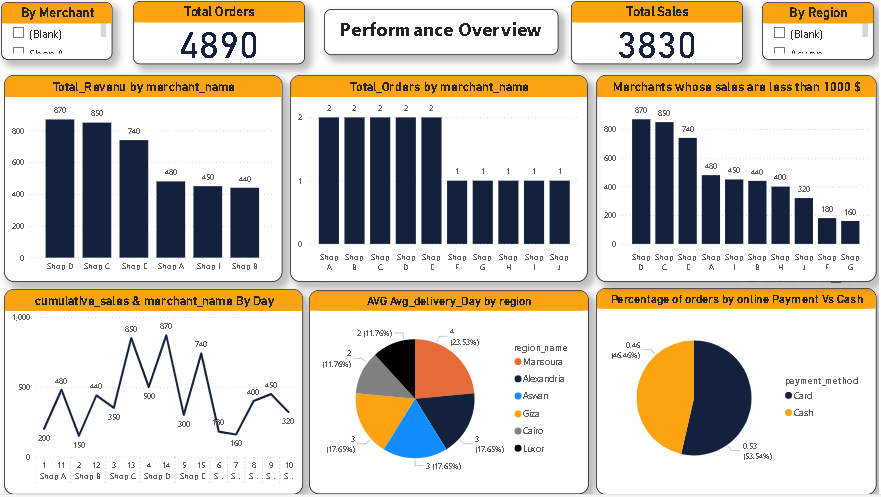

This screenshot's page, from the dashboard's own definition file:
{"tool":"powerbi","page":{"name":"Page 1","canvas":[1280,720],"ordinal":0},"visuals":[{"type":"card","title":"Total Orders","fields":{"Values":["Sum(Query9.Total_Orders)"]},"box":[194.9,3.4,250.3,92.4],"z":0},{"type":"card","title":"Total Sales","fields":{"Values":["Sum(Query1.Total_Revenu)"]},"box":[831.5,3.4,250.3,92.4],"z":1000},{"type":"columnChart","title":"Total_Revenu by merchant_name","fields":{"Category":["Query1.merchant_name"],"Y":["Sum(Query1.Total_Revenu)"]},"box":[6.7,110.9,404.8,300.7],"z":2000},{"type":"lineChart","title":"cumulative_sales & merchant_name By  Day","fields":{"Category":["Query2.merchant_name","Query2.order_date.Variation.Date Hierarchy.Day"],"Y":["Sum(Query2.cumulative_sales)"]},"box":[6.7,421.6,435.1,299],"z":3000},{"type":"pieChart","title":"AVG Avg_delivery_Day by region ","fields":{"Category":["Query6.region_name"],"Y":["Sum(Query6.Avg_delivery_Day)"]},"box":[450.2,423.3,406.5,297.3],"z":4000},{"type":"pieChart","title":"Percentage of orders by online Payment Vs Cash","fields":{"Category":["Query8.payment_method"],"Y":["Sum(Query8.Percentage)"]},"box":[868.5,419.9,408.2,300.7],"z":5000},{"type":"columnChart","title":"Merchants whose sales are less than 1000 $","fields":{"Category":["Query9.merchant_name"],"Y":["Sum(Query9.Total_Orders)"]},"box":[868.5,110.9,408.2,300.7],"z":6000},{"type":"columnChart","fields":{"Category":["Query3.merchant_name"],"Y":["Sum(Query3.Total_Orders)"]},"box":[423.3,110.9,433.4,300.7],"z":7000},{"type":"slicer","title":"By Merchant ","fields":{"Values":["Query1.merchant_name"]},"box":[3.4,5,162,84],"z":8000},{"type":"slicer","title":"By Region","fields":{"Values":["Query10.region_name"]},"box":[1110.3,5,162.9,84],"z":9000},{"type":"textbox","box":[472,15.1,341,67.2],"z":10000}]}

Visuals, with their boxes in screenshot pixels (x1, y1, x2, y2), scaled from the page's 1280x720 canvas onto the 881x497 screenshot:
"Total Orders" card: 134:2:306:66
"Total Sales" card: 572:2:745:66
"Total_Revenu by merchant_name" columnChart: 5:77:283:284
"cumulative_sales & merchant_name By  Day" lineChart: 5:291:304:496
"AVG Avg_delivery_Day by region " pieChart: 310:292:590:496
"Percentage of orders by online Payment Vs Cash" pieChart: 598:290:879:496
"Merchants whose sales are less than 1000 $" columnChart: 598:77:879:284
columnChart - Query3.merchant_name x Sum(Query3.Total_Orders): 291:77:590:284
"By Merchant " slicer: 2:3:114:61
"By Region" slicer: 764:3:876:61
textbox: 325:10:560:57
